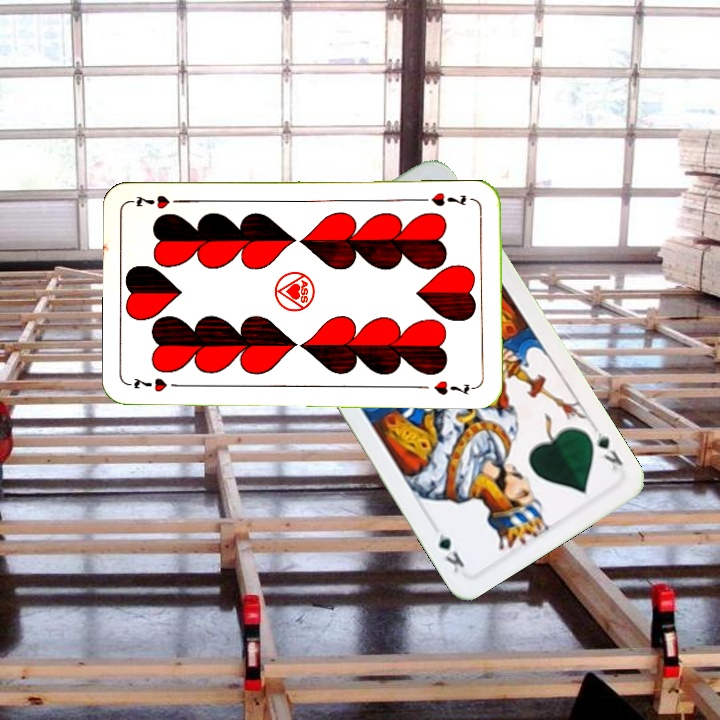GK: (582, 428, 626, 474)
H7: (127, 374, 186, 395), (427, 188, 469, 209)
